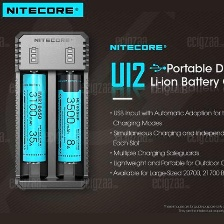battery: (54, 69, 84, 163), (20, 71, 48, 163)
